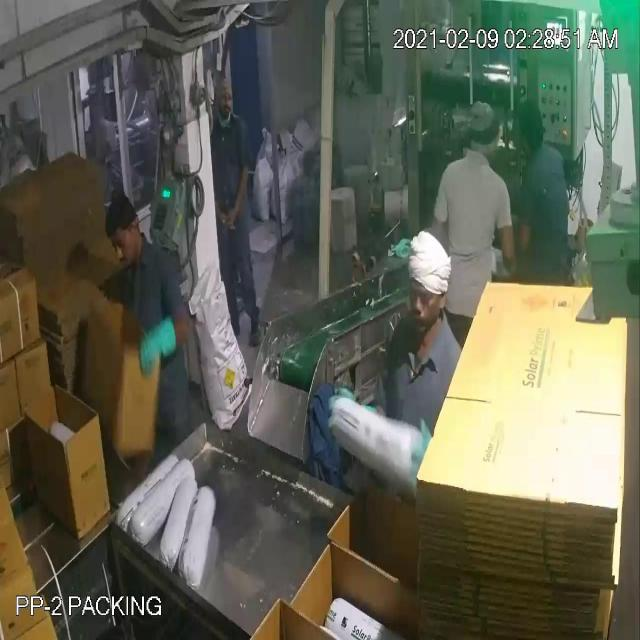Gloves: (25, 65, 239, 347)
